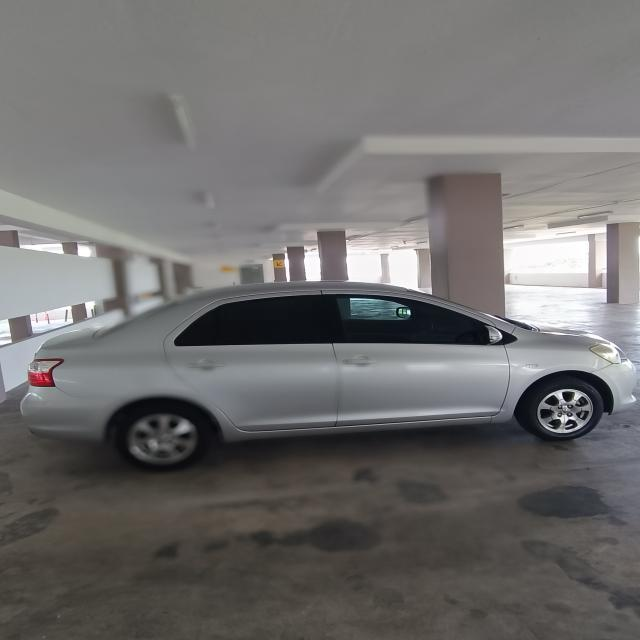ToyotaVios: (19, 279, 637, 472)
